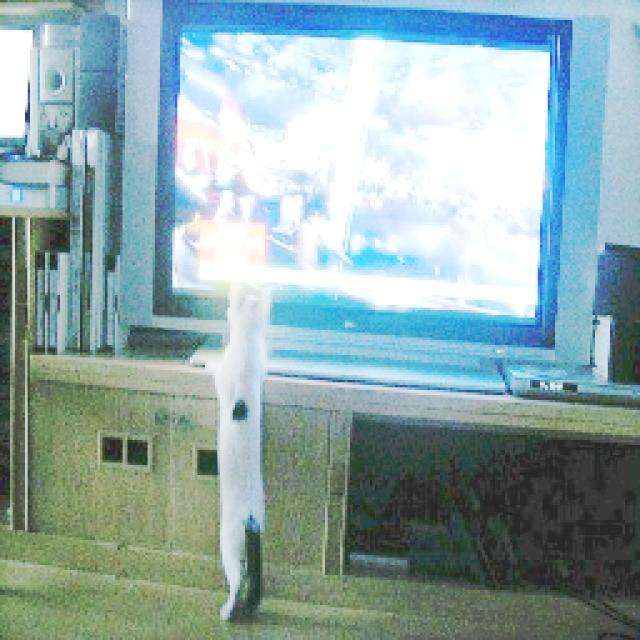cat: (191, 273, 282, 622)
